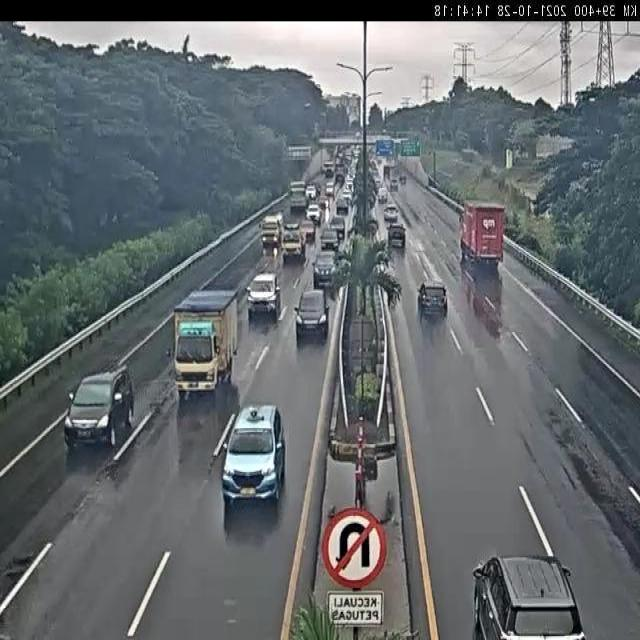Bus: (286, 181, 308, 214)
Car: (470, 551, 584, 640), (220, 402, 286, 517), (63, 364, 130, 450), (294, 287, 330, 344), (246, 276, 280, 320), (418, 280, 448, 318), (311, 250, 337, 289), (320, 225, 338, 251), (388, 223, 406, 248), (300, 218, 316, 244), (331, 215, 346, 240), (383, 203, 400, 222), (306, 203, 321, 223), (307, 185, 317, 202), (341, 189, 353, 203)
Truck: (173, 289, 243, 395), (459, 201, 504, 268), (260, 212, 284, 251), (281, 224, 305, 261), (323, 160, 334, 177)
